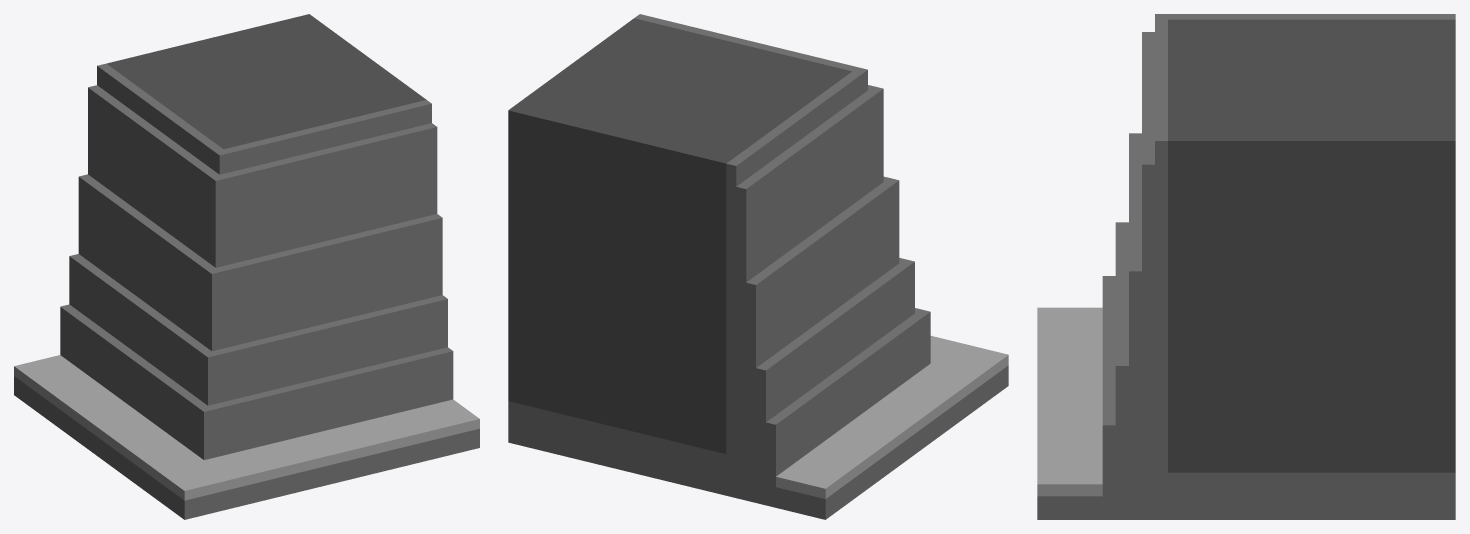
Rendered from InnerCorner.obj.
The picture shows the model from 3 angles, left to right: view 1: azimuth 30°, elevation 25°; view 2: azimuth 150°, elevation 25°; view 3: azimuth 270°, elevation 25°; orthographic projection. The views are drawn at different scales.
Parts seen in each view (by area): view 1: InnerCorner; view 2: InnerCorner; view 3: InnerCorner.
Boxes of the visible parts, left/top/right/bottom form: InnerCorner: left=14, top=14, right=479, bottom=519; InnerCorner: left=508, top=14, right=1008, bottom=519; InnerCorner: left=1037, top=14, right=1455, bottom=519.
Size of the model in its own units: 32 by 32 by 32.
